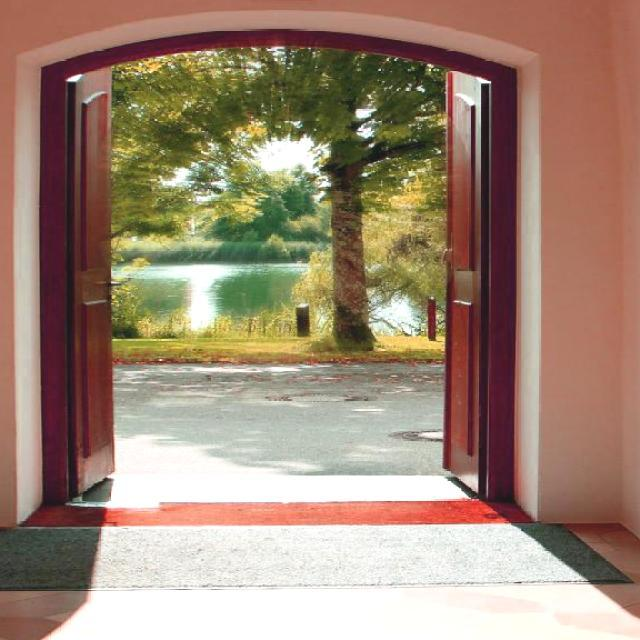Door: (54, 56, 117, 506), (436, 66, 492, 492)
